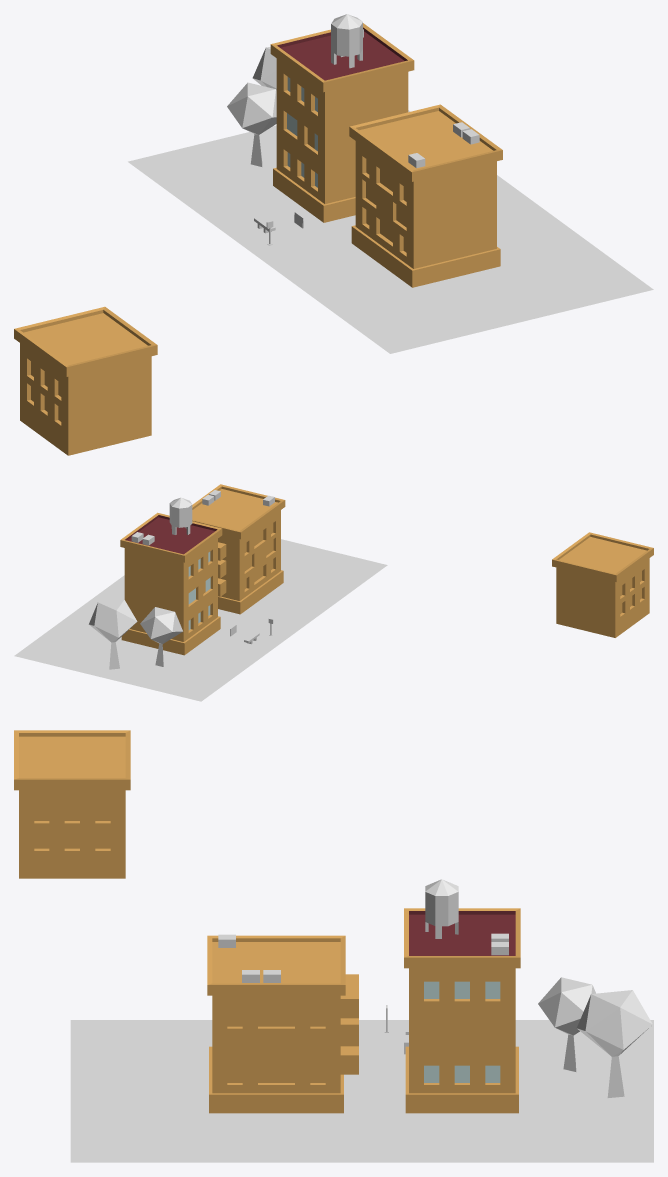
The model's file is city_test_14.glb.
3 views of the same model, one above another, from view 1: azimuth 30°, elevation 25°; view 2: azimuth 150°, elevation 25°; view 3: azimuth 270°, elevation 25° (orthographic). The views are drawn at different scales.
Visible parts, largest first — view 1: ground, building, building.001, Cube, tree, on_the_roof.005, tree.001; view 2: ground, building.001, Cube, building, tree.001, tree, on_the_roof.005; view 3: ground, building, building.001, Cube, tree.001, tree, on_the_roof.005.
Boxes of the visible parts, bbox=[...] form: ground: bbox=[128, 110, 653, 353]; building: bbox=[349, 104, 502, 287]; building.001: bbox=[270, 23, 414, 222]; Cube: bbox=[14, 306, 157, 455]; tree: bbox=[227, 82, 276, 166]; on_the_roof.005: bbox=[331, 14, 362, 68]; tree.001: bbox=[252, 47, 276, 89]; ground: bbox=[14, 539, 387, 701]; building.001: bbox=[120, 512, 222, 655]; Cube: bbox=[552, 532, 653, 637]; building: bbox=[192, 484, 285, 614]; tree.001: bbox=[88, 599, 137, 669]; tree: bbox=[140, 607, 182, 666]; on_the_roof.005: bbox=[169, 497, 192, 534]; ground: bbox=[70, 1020, 653, 1162]; building: bbox=[207, 935, 358, 1113]; building.001: bbox=[404, 908, 520, 1113]; Cube: bbox=[14, 730, 130, 878]; tree.001: bbox=[577, 990, 652, 1097]; tree: bbox=[538, 977, 595, 1071]; on_the_roof.005: bbox=[425, 879, 458, 938].
Size of the model in its own units: 14.71 by 4.3 by 11.98.
